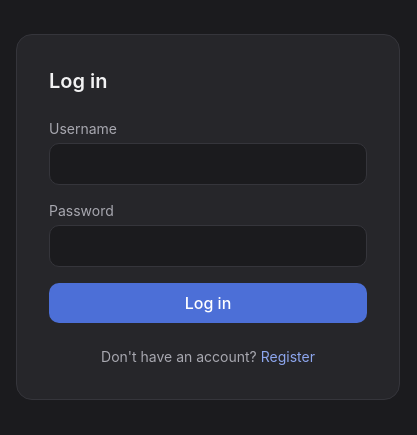
Test: LoginPage › shows the server error message on invalid credentials
In the field labelled "Username": (208, 164) x1=49 y1=143 x2=367 y2=185, type "kubo"
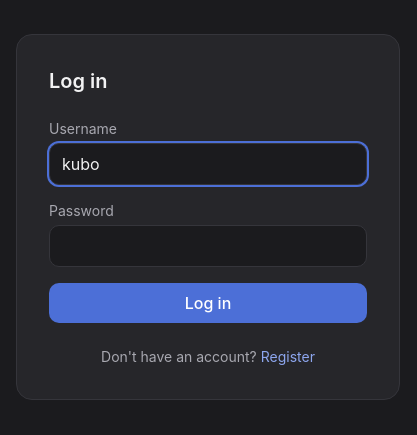
In the password field labelled "Password": (208, 246) x1=49 y1=225 x2=367 y2=267, type "wrong password"
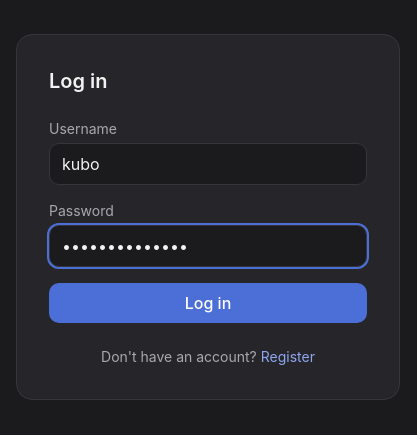
Click the button "Log in": click(208, 303) x1=49 y1=283 x2=367 y2=323
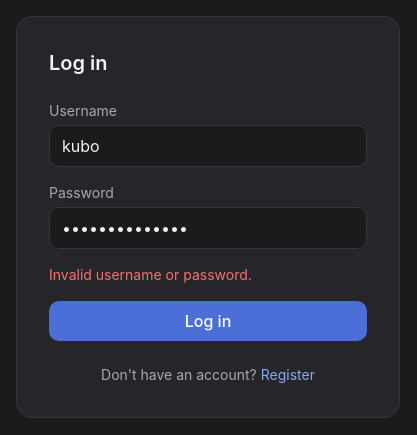
Expected: the message reads "Invalid username or password.", x1=49 y1=266 x2=252 y2=283
